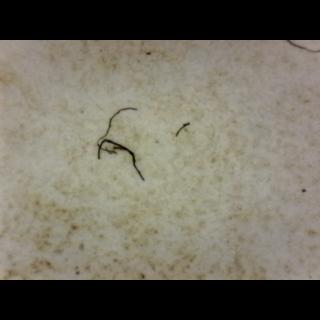Microplastic: (172, 111, 202, 141)
